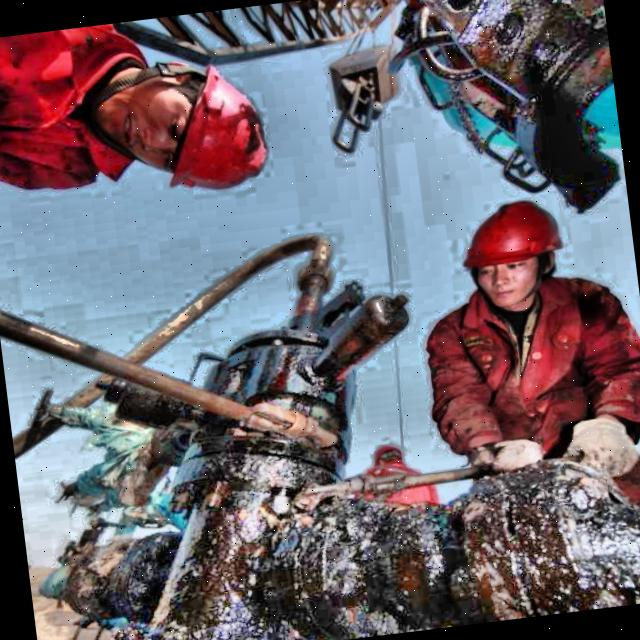helmet: (68, 44, 294, 205), (451, 195, 572, 312), (363, 437, 408, 472)
